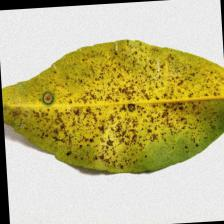canker: (40, 76, 202, 146)
